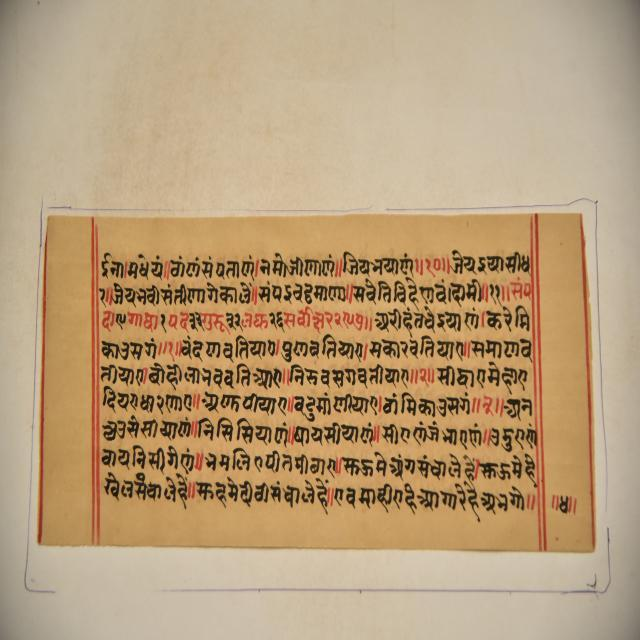text_paragraph: (35, 209, 596, 548)
